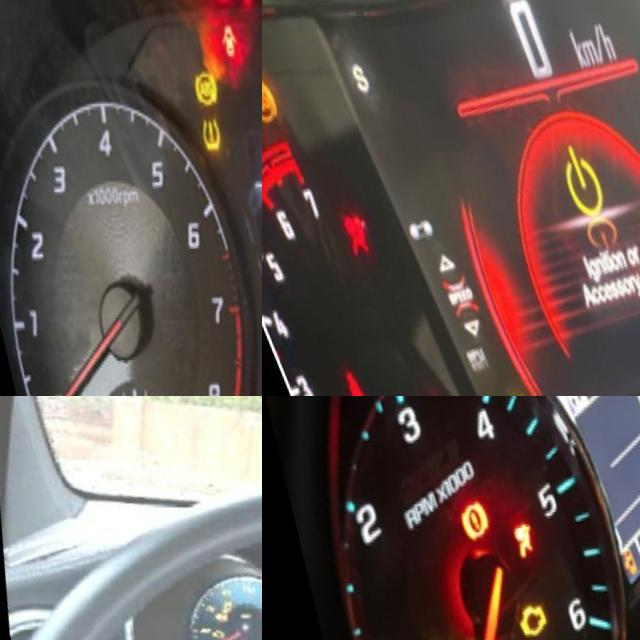Doors: (207, 23, 241, 78)
